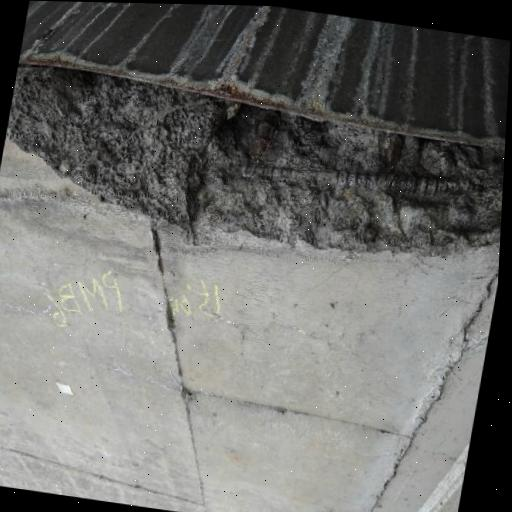exposed_rebar: (219, 159, 475, 198)
